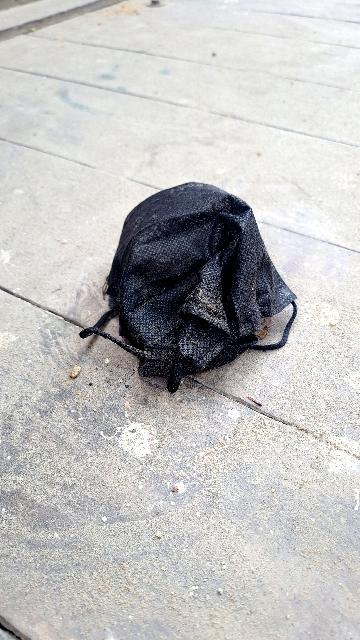mask: (59, 122, 314, 387)
